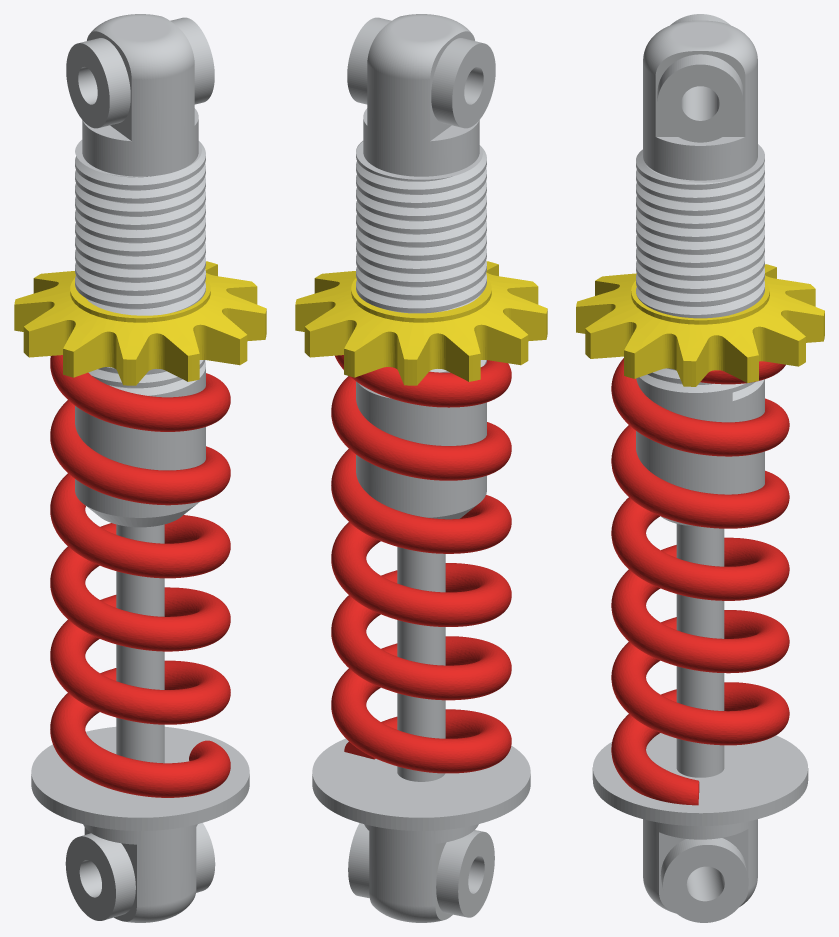
File: shock-absorber.glb
3 renders of one model, left to right at view 1: azimuth 30°, elevation 25°; view 2: azimuth 150°, elevation 25°; view 3: azimuth 270°, elevation 25°, orthographic.
Visible parts, largest first — view 1: 3. SPRING, 2. PISTON ROD, 1. LOWER MOUNT, 4. LOCK NUT; view 2: 2. PISTON ROD, 3. SPRING, 1. LOWER MOUNT, 4. LOCK NUT; view 3: 3. SPRING, 2. PISTON ROD, 1. LOWER MOUNT, 4. LOCK NUT.
Boxes of the visible parts, x1,y1,x2,y2 form: 3. SPRING: (50,355,230,797); 2. PISTON ROD: (66,14,214,527); 1. LOWER MOUNT: (31,524,249,922); 4. LOCK NUT: (14,261,266,385); 2. PISTON ROD: (347,14,495,519); 3. SPRING: (331,355,511,773); 1. LOWER MOUNT: (312,547,530,922); 4. LOCK NUT: (295,261,547,385); 3. SPRING: (611,358,789,805); 2. PISTON ROD: (636,14,764,526); 1. LOWER MOUNT: (592,524,808,922); 4. LOCK NUT: (576,264,824,386).
Size of the model in its own units: 51.97 by 200 by 51.97.
